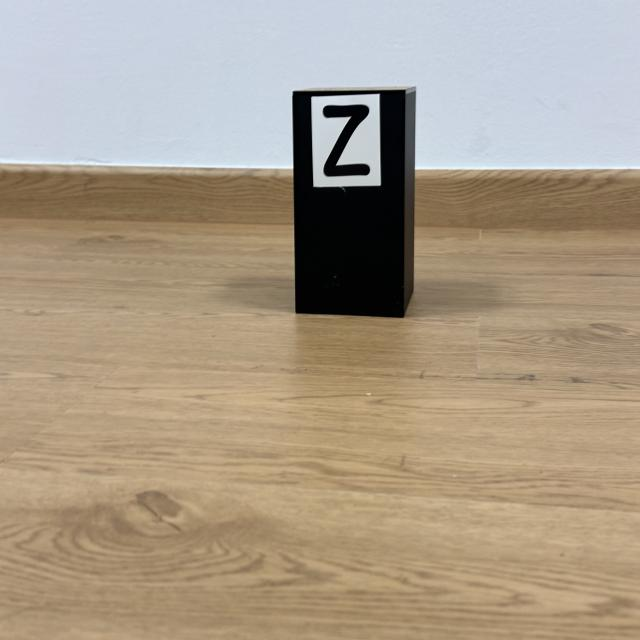Z: (322, 105, 370, 177)
